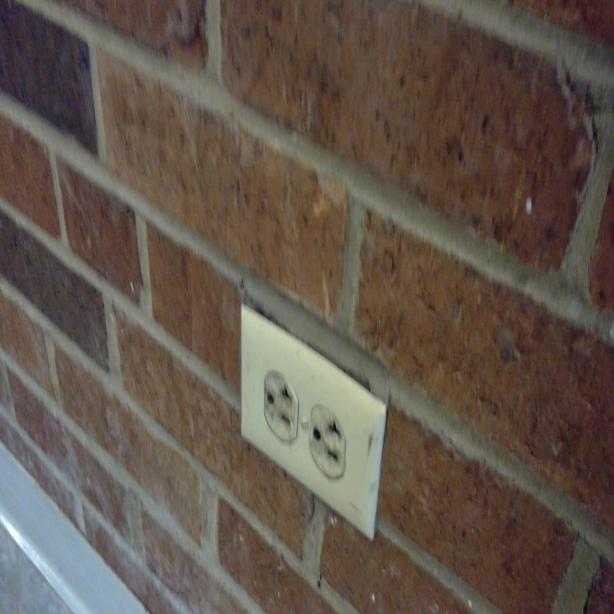typeb: (308, 405, 346, 479), (263, 373, 299, 441)
